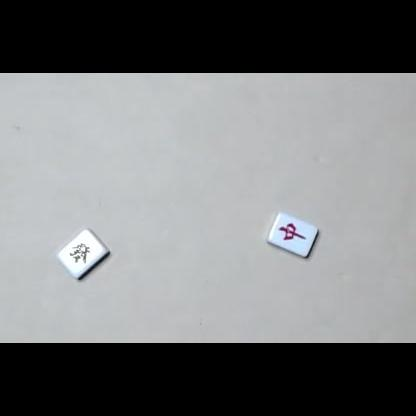6z: (70, 241, 91, 264)
7z: (278, 222, 308, 241)
